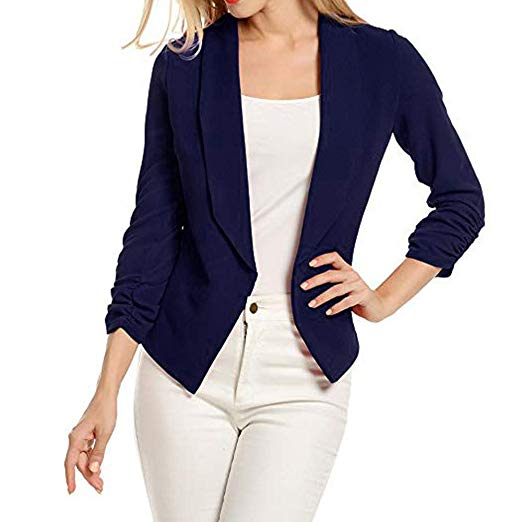F_W_suit jacket: (93, 20, 479, 393)
